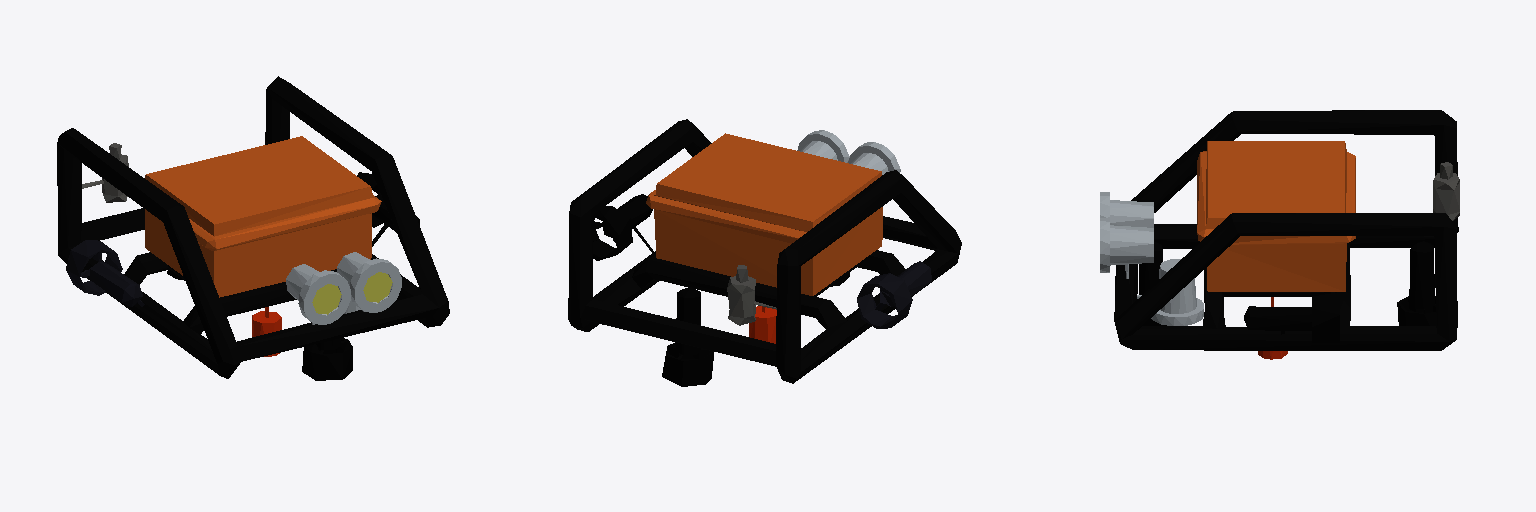
Rendered from hanse_high.obj.
The picture shows the model from 3 angles: view 1: azimuth 30°, elevation 25°; view 2: azimuth 150°, elevation 25°; view 3: azimuth 270°, elevation 25°; orthographic projection.
Size of the model in its own units: 6.5 by 3.64 by 6.33.